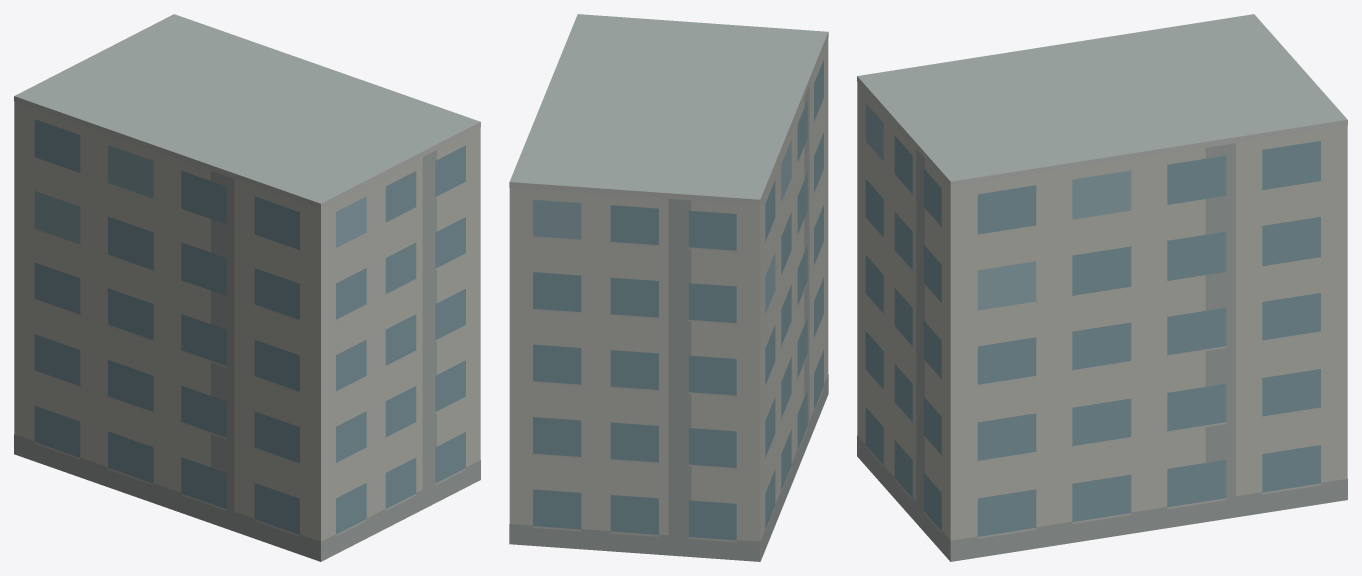
The model's file is survey-upis-32765998.glb.
3 views of the same model, side by side, from view 1: azimuth 30°, elevation 25°; view 2: azimuth 150°, elevation 25°; view 3: azimuth 270°, elevation 25° (orthographic). The views are drawn at different scales.
Visible parts, largest first — view 1: survey-upis-32765998.tmp; view 2: survey-upis-32765998.tmp; view 3: survey-upis-32765998.tmp.
Part boxes in pixels (x1,y1,x2,y2): survey-upis-32765998.tmp: (14, 14, 480, 561); survey-upis-32765998.tmp: (509, 14, 828, 561); survey-upis-32765998.tmp: (857, 14, 1347, 561).
Size of the model in its own units: 14.81 by 15.65 by 18.31.
